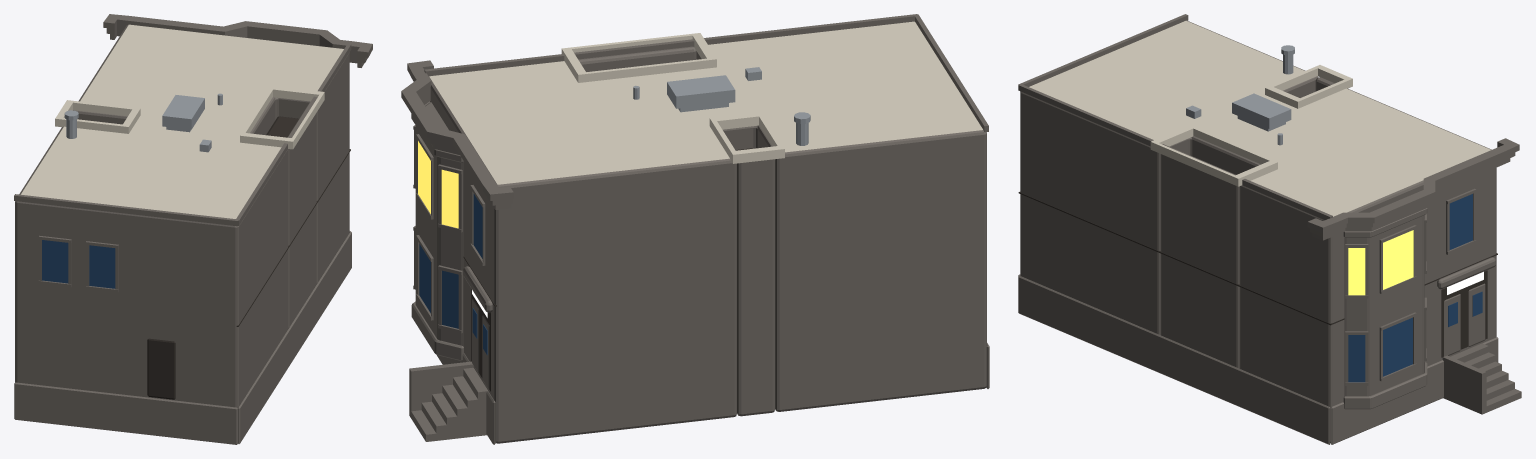
The model's file is 254-ritch-opt.glb.
3 renders of one model, left to right at view 1: azimuth 30°, elevation 25°; view 2: azimuth 150°, elevation 25°; view 3: azimuth 270°, elevation 25°, orthographic. The views are drawn at different scales.
Parts seen in each view (by area): view 1: body, grp_Toy_slate, grp_Toy_stone, grp_Toy_ink, grp_Toy_glass, grp_Toy_steel; view 2: body, grp_Toy_slate, grp_Toy_stone, grp_Toy_steel, grp_Toy_glass, grp_Toy_gold_Glow, grp_Toy_ink; view 3: body, grp_Toy_slate, grp_Toy_stone, grp_Toy_glass, grp_Toy_gold_Glow, grp_Toy_steel, grp_Toy_ink.
Boxes of the visible parts, left/top/right/bottom form: body: left=15, top=24, right=349, bottom=407; grp_Toy_slate: left=14, top=14, right=372, bottom=444; grp_Toy_stone: left=55, top=86, right=324, bottom=149; grp_Toy_ink: left=147, top=116, right=350, bottom=399; grp_Toy_glass: left=42, top=240, right=115, bottom=288; grp_Toy_steel: left=64, top=93, right=222, bottom=152; body: left=429, top=21, right=986, bottom=443; grp_Toy_slate: left=401, top=14, right=989, bottom=444; grp_Toy_stone: left=561, top=33, right=784, bottom=163; grp_Toy_steel: left=633, top=67, right=810, bottom=145; grp_Toy_glass: left=419, top=194, right=487, bottom=354; grp_Toy_gold_Glow: left=418, top=141, right=458, bottom=228; grp_Toy_ink: left=463, top=148, right=752, bottom=391; body: left=1020, top=20, right=1496, bottom=443; grp_Toy_slate: left=1018, top=14, right=1521, bottom=444; grp_Toy_stone: left=1150, top=65, right=1352, bottom=186; grp_Toy_glass: left=1348, top=194, right=1482, bottom=382; grp_Toy_gold_Glow: left=1348, top=230, right=1413, bottom=295; grp_Toy_steel: left=1186, top=45, right=1294, bottom=145; grp_Toy_ink: left=1018, top=192, right=1497, bottom=357.
Size of the model in its own units: 16.14 by 8.8 by 16.2.
